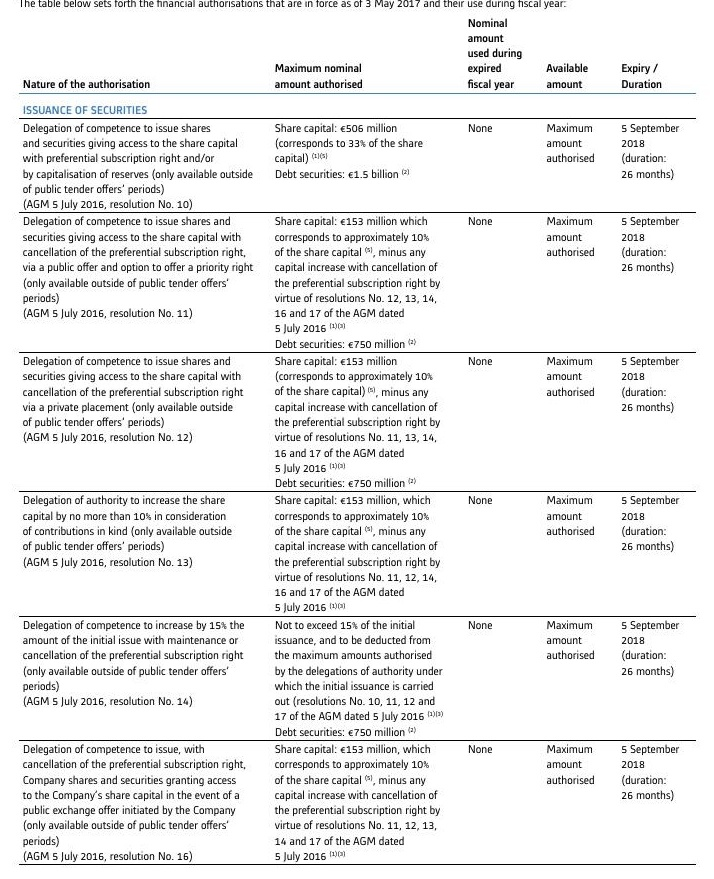table: (0, 0, 714, 879)
